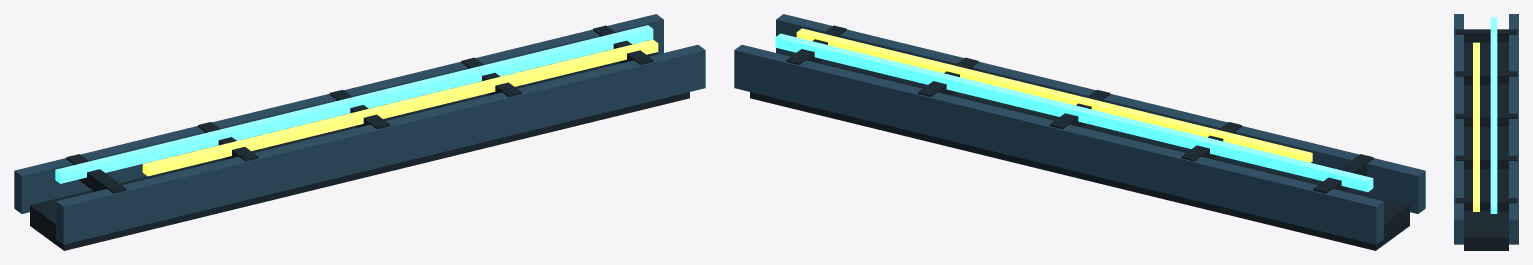
File: cable-tray-kit.glb
3 views of the same model, side by side, from view 1: azimuth 30°, elevation 25°; view 2: azimuth 150°, elevation 25°; view 3: azimuth 270°, elevation 25° (orthographic). The views are drawn at different scales.
Visible parts, largest first — view 1: right-rail, cyan-service-line, left-rail, amber-service-line, ribbed-tray-base, tray-cross-brace-1, tray-cross-brace-3, tray-cross-brace-5, tray-cross-brace-2, tray-cross-brace-4; view 2: left-rail, right-rail, cyan-service-line, ribbed-tray-base, amber-service-line, tray-cross-brace-1, tray-cross-brace-3, tray-cross-brace-4, tray-cross-brace-5, tray-cross-brace-2; view 3: ribbed-tray-base, left-rail, right-rail, cyan-service-line, amber-service-line, tray-cross-brace-1, tray-cross-brace-2, tray-cross-brace-3, tray-cross-brace-4, tray-cross-brace-5.
Boxes of the visible parts, x1,y1,x2,y2 form: right-rail: (56, 44, 705, 244); cyan-service-line: (55, 25, 653, 183); left-rail: (14, 14, 663, 213); amber-service-line: (142, 39, 658, 176); ribbed-tray-base: (30, 52, 689, 250); tray-cross-brace-1: (66, 154, 126, 193); tray-cross-brace-3: (329, 89, 390, 129); tray-cross-brace-5: (593, 25, 653, 64); tray-cross-brace-2: (198, 122, 258, 161); tray-cross-brace-4: (461, 57, 521, 96); left-rail: (734, 44, 1383, 244); right-rail: (776, 14, 1425, 213); cyan-service-line: (775, 33, 1373, 191); ribbed-tray-base: (750, 52, 1409, 250); amber-service-line: (796, 28, 1312, 162); tray-cross-brace-1: (1313, 154, 1373, 193); tray-cross-brace-3: (1049, 89, 1110, 129); tray-cross-brace-4: (918, 57, 978, 96); tray-cross-brace-5: (786, 25, 846, 64); tray-cross-brace-2: (1181, 122, 1241, 161); ribbed-tray-base: (1464, 42, 1508, 250); left-rail: (1509, 14, 1518, 244); right-rail: (1454, 14, 1463, 244); cyan-service-line: (1490, 17, 1497, 213); amber-service-line: (1473, 42, 1479, 211); tray-cross-brace-1: (1455, 29, 1517, 42); tray-cross-brace-2: (1455, 71, 1517, 84); tray-cross-brace-3: (1455, 113, 1517, 126); tray-cross-brace-4: (1455, 155, 1517, 168); tray-cross-brace-5: (1455, 198, 1517, 211).
Bounding box in the file's own units: 3.9 × 0.34 × 0.52.
